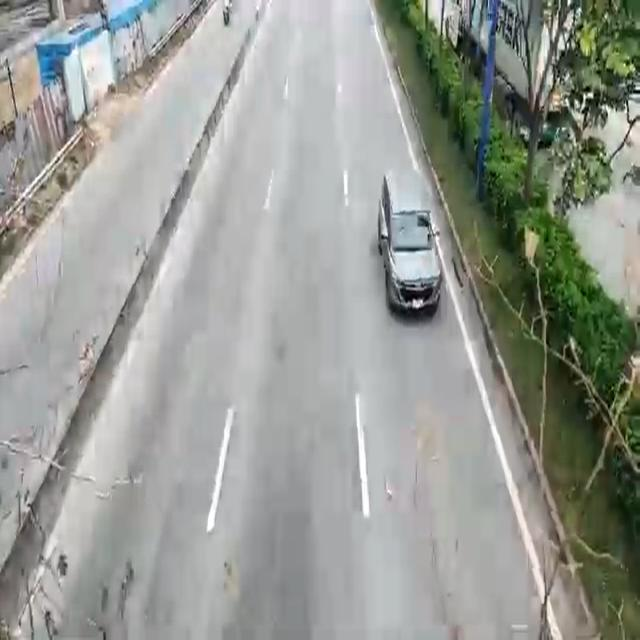car: (375, 168, 442, 318)
